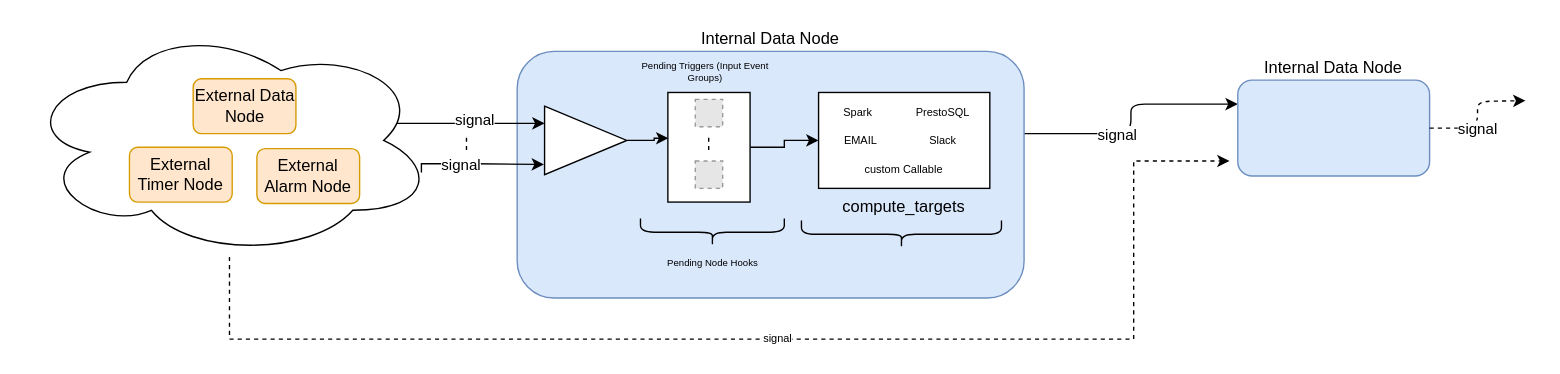
Some shapes in this 1560 by 374 pixel diagram are drawn without their labels. Grey dashed boxes stand in for pictures. Here are the shapes that lost their labels. From the top down, the box of each, then its label:
(543, 105, 627, 175): inputs
(800, 219, 1001, 248): Execute and Compute Specific Hooks
